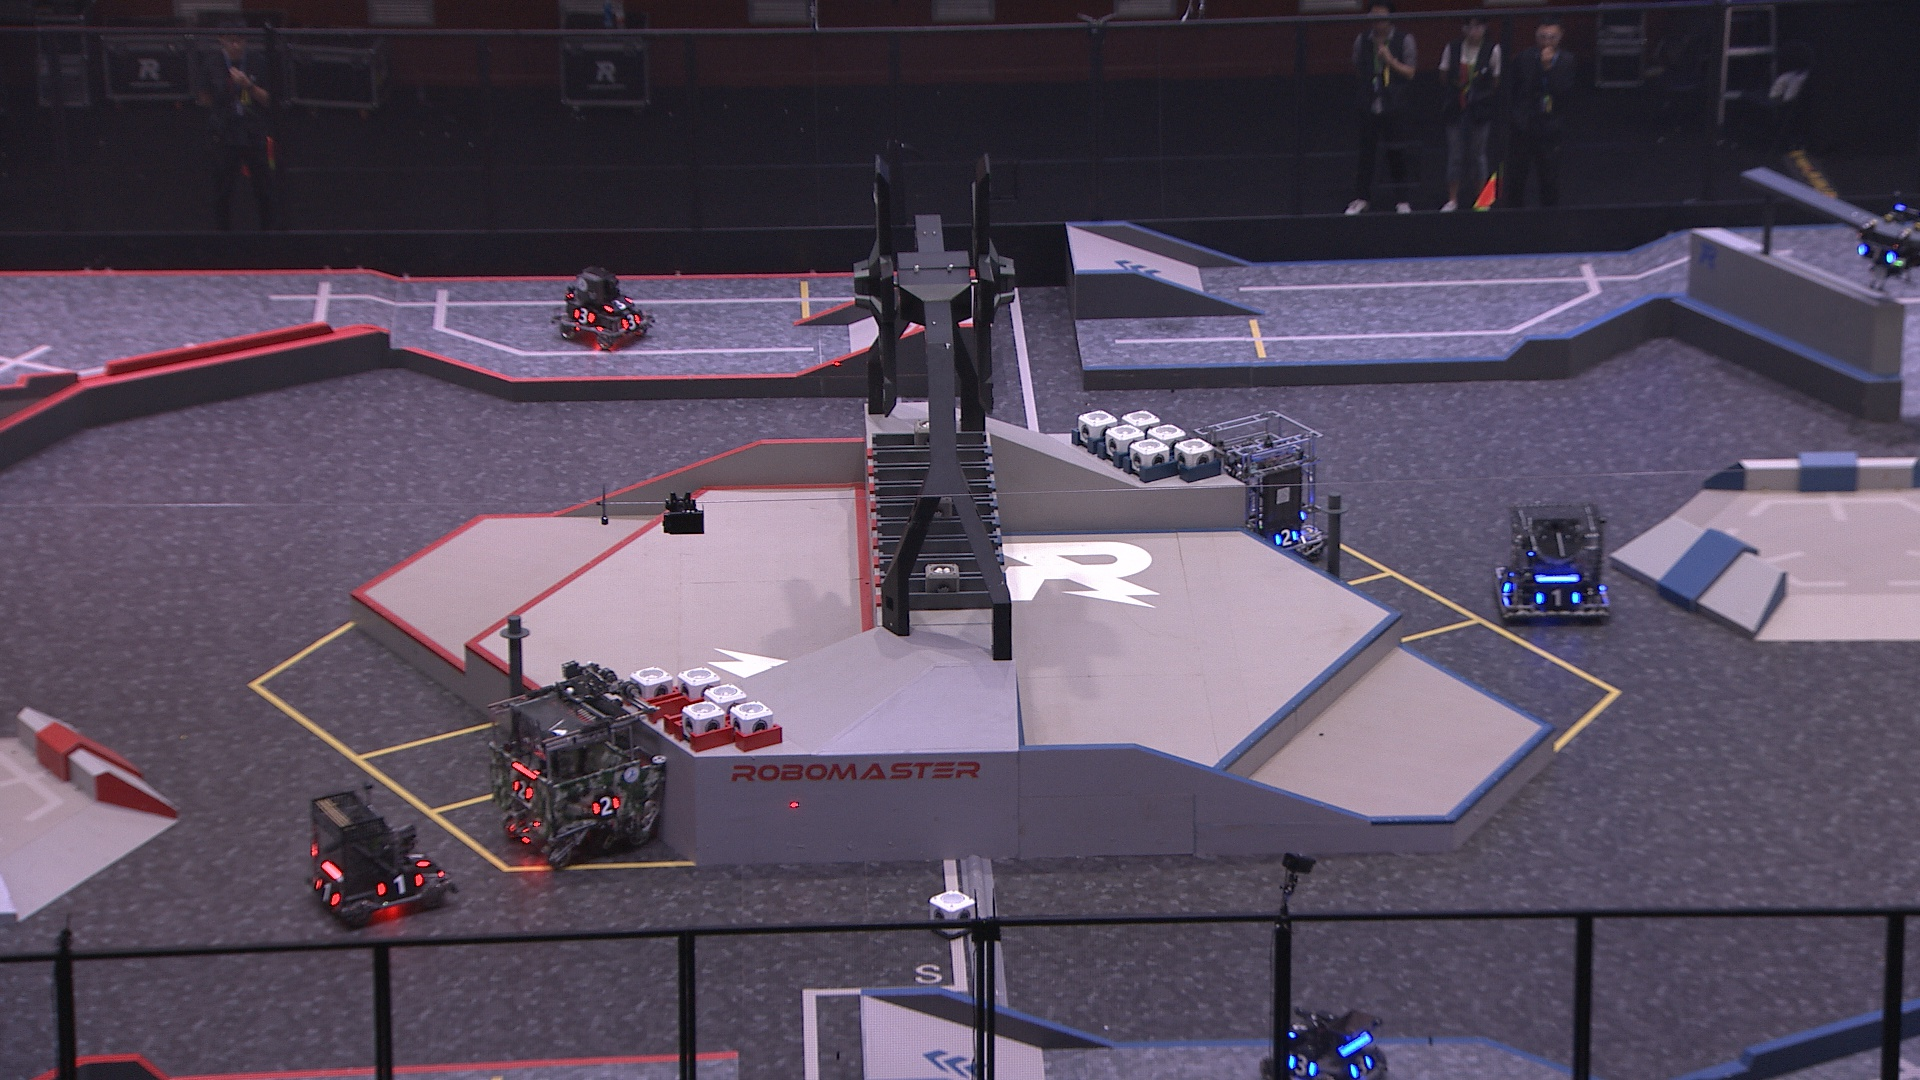armor: (372, 868, 425, 902), (310, 876, 343, 909), (1536, 584, 1582, 607), (1859, 239, 1896, 266), (1344, 1050, 1377, 1080), (1284, 1052, 1319, 1080), (588, 794, 624, 820), (600, 291, 636, 314), (509, 775, 535, 802), (1286, 1015, 1313, 1040), (404, 844, 430, 869), (1273, 524, 1299, 549), (568, 306, 597, 328), (622, 311, 644, 334), (1495, 568, 1516, 591)
car: (483, 675, 662, 869), (1191, 415, 1331, 568), (302, 789, 448, 926), (1486, 500, 1613, 626), (1261, 1001, 1389, 1080), (553, 266, 659, 349)
watcher: (1851, 193, 1920, 294)
